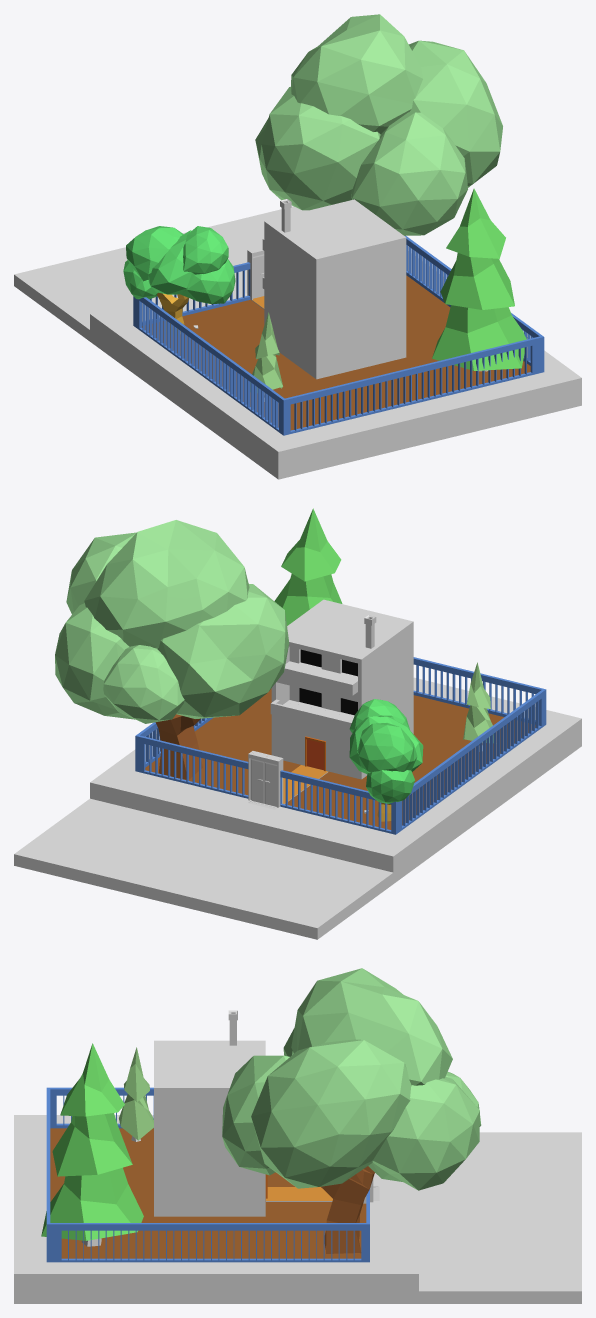
The model's file is building.gltf.
3 renders of one model, top to bottom at view 1: azimuth 30°, elevation 25°; view 2: azimuth 150°, elevation 25°; view 3: azimuth 270°, elevation 25°, orthographic. The views are drawn at different scales.
Parts seen in each view (by area): view 1: building.003, OakTree3.003, SpruceTree1.003, OakTree1.003, SpruceTree2.003, exterior_door.003; view 2: building.003, OakTree3.003, OakTree1.003, SpruceTree1.003, exterior_door.003, SpruceTree2.003; view 3: building.003, OakTree3.003, SpruceTree1.003, SpruceTree2.003.
Boxes of the visible parts, x1,y1,x2,y2 form: building.003: (14, 199, 581, 479); OakTree3.003: (255, 14, 502, 235); SpruceTree1.003: (432, 188, 527, 371); OakTree1.003: (123, 226, 235, 335); SpruceTree2.003: (250, 312, 282, 401); exterior_door.003: (247, 246, 264, 300); building.003: (14, 599, 581, 939); OakTree3.003: (55, 520, 289, 779); OakTree1.003: (349, 699, 423, 821); SpruceTree1.003: (274, 508, 342, 625); exterior_door.003: (248, 751, 283, 807); SpruceTree2.003: (463, 662, 493, 751); building.003: (14, 1040, 581, 1303); OakTree3.003: (222, 968, 481, 1253); SpruceTree1.003: (41, 1043, 143, 1246); SpruceTree2.003: (119, 1047, 153, 1141).
Size of the model in its own units: 23.41 by 17.33 by 30.1.
